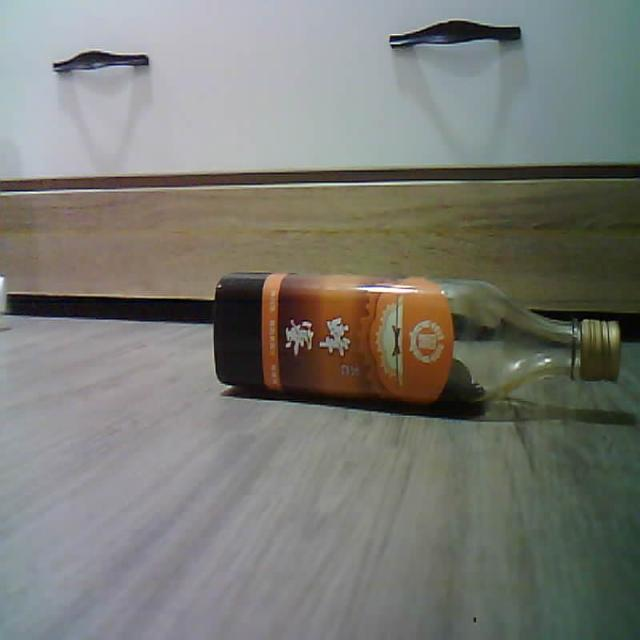bottle: (213, 273, 620, 403)
